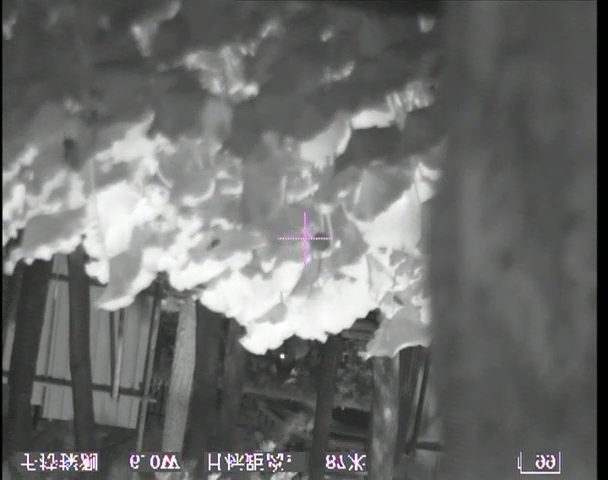my: (279, 351, 286, 360)
